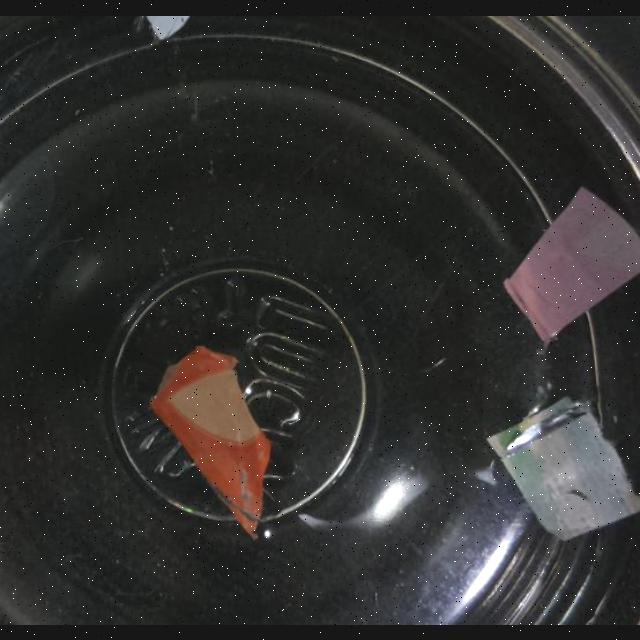Fragment: (149, 344, 273, 538), (486, 394, 640, 540), (504, 188, 640, 342), (143, 16, 195, 38)
